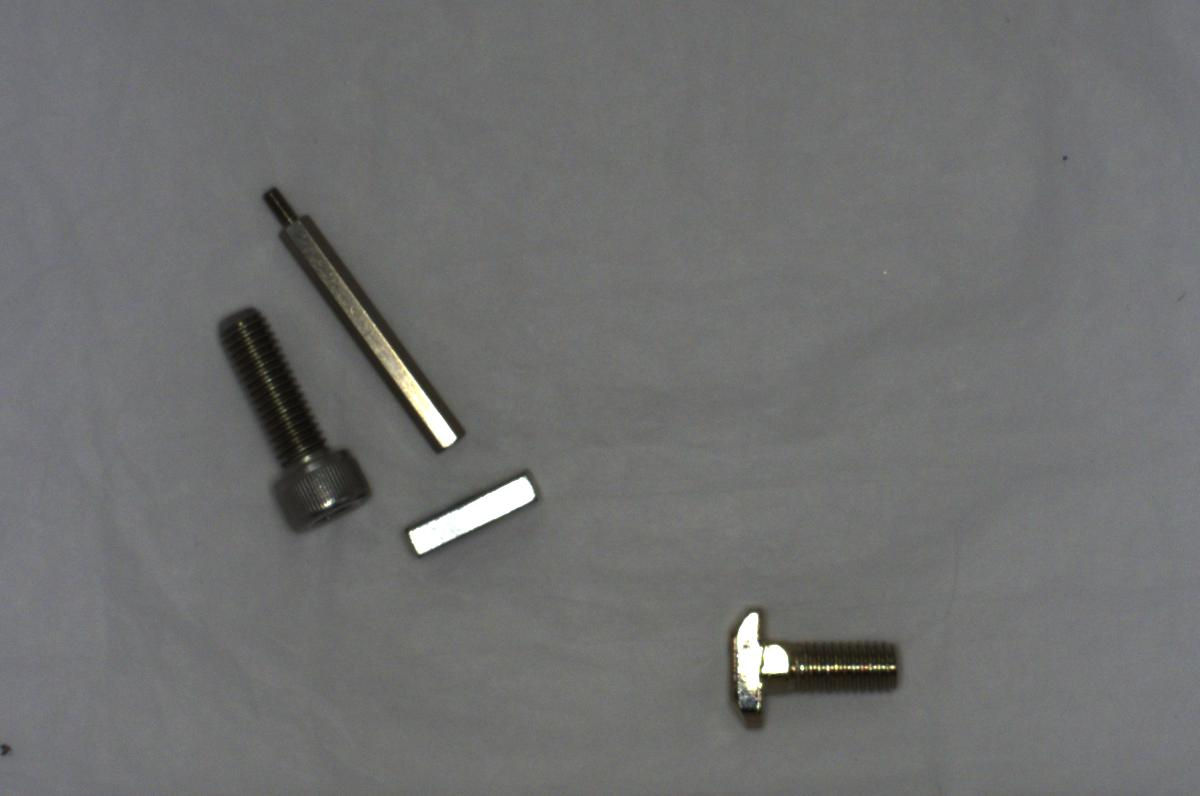Hexagon screw: (215, 299, 372, 536)
Hexagonal steel column: (258, 180, 462, 447)
Rectangular nut: (400, 463, 544, 563)
T-shaped screw: (715, 606, 914, 733)
